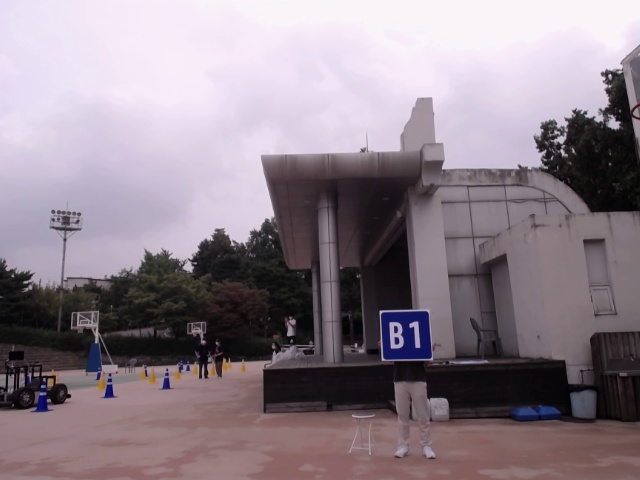delivery_b1: (380, 310, 433, 361)
